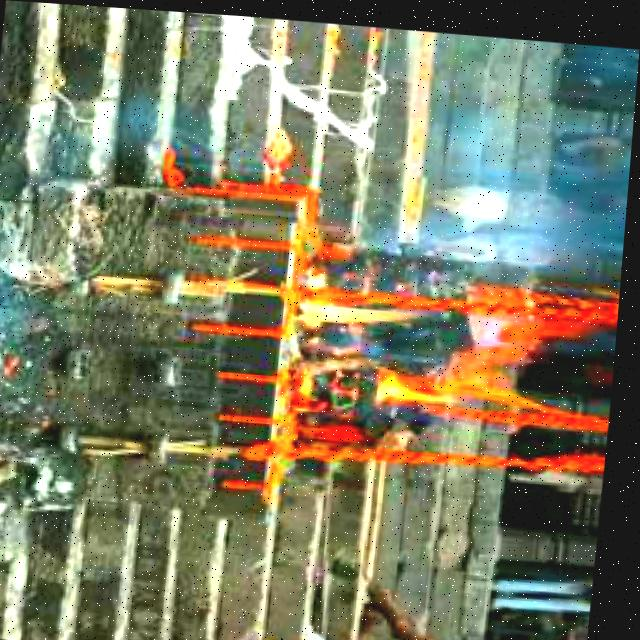Fire: (282, 272, 577, 410)
